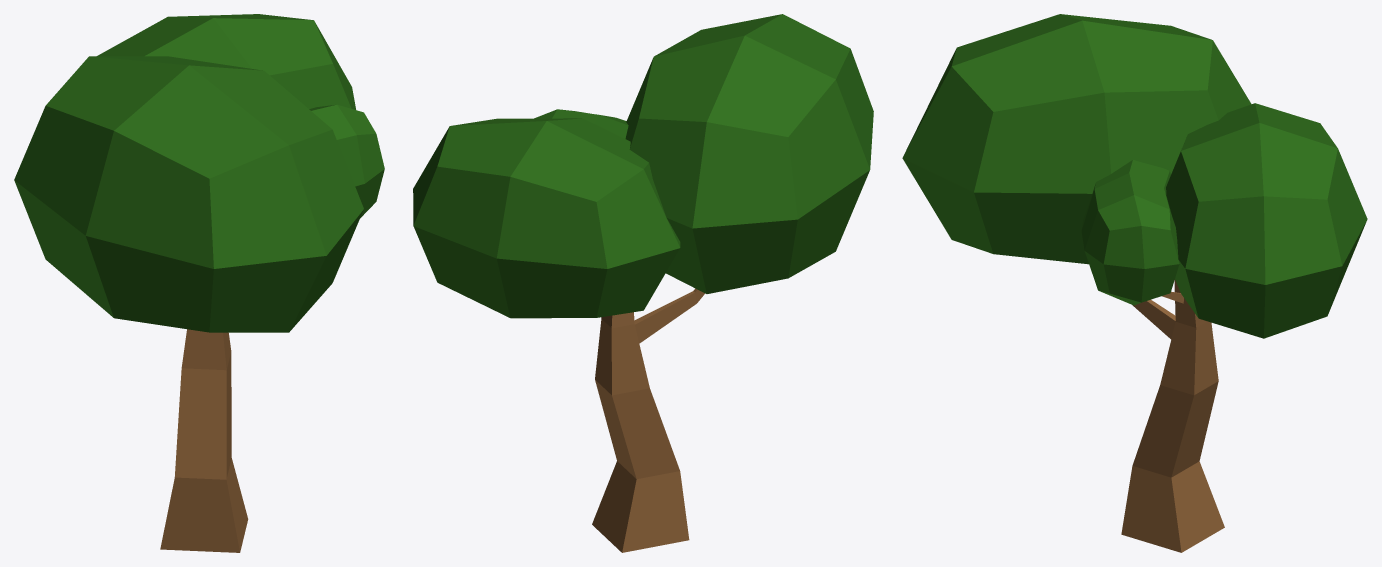
Rendered from tree2.fbx.
3 renders of one model, left to right at view 1: azimuth 30°, elevation 25°; view 2: azimuth 150°, elevation 25°; view 3: azimuth 270°, elevation 25°, orthographic. The views are drawn at different scales.
Parts seen in each view (by area): view 1: Arbol1.018; view 2: Arbol1.018; view 3: Arbol1.018.
Part boxes in pixels (left/top/right/bottom): Arbol1.018: left=14, top=14, right=384, bottom=552; Arbol1.018: left=413, top=14, right=873, bottom=552; Arbol1.018: left=902, top=14, right=1367, bottom=552.
Size of the model in its own units: 84.17 by 110 by 95.99.
